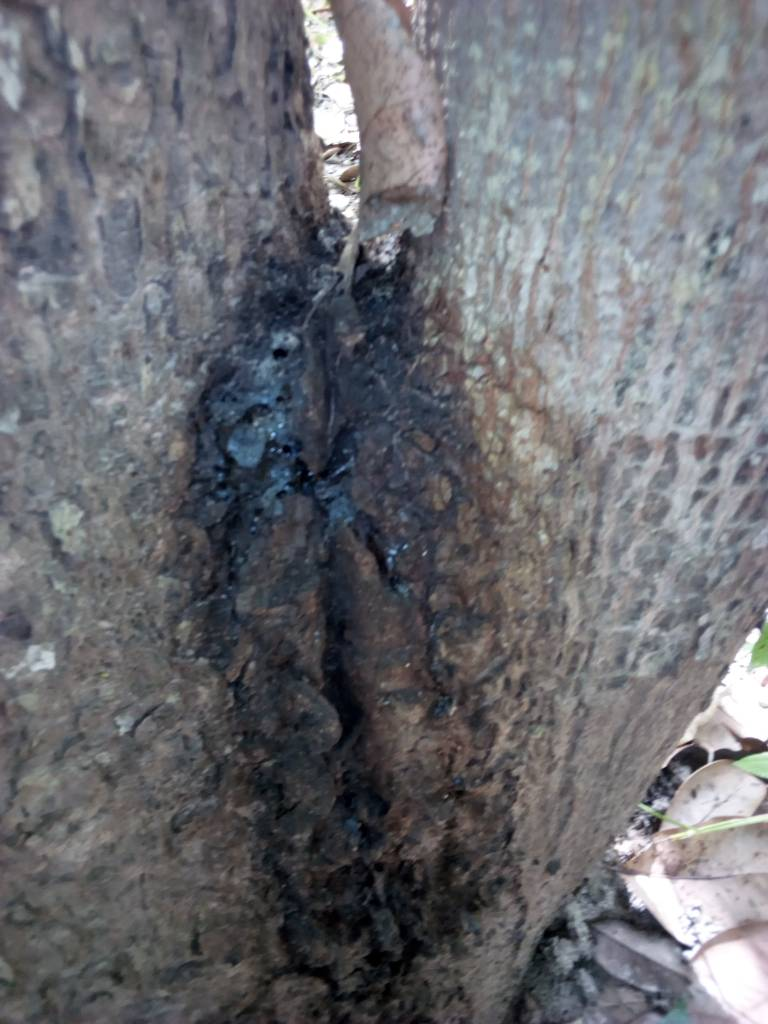Gommose: (190, 257, 499, 1005)
